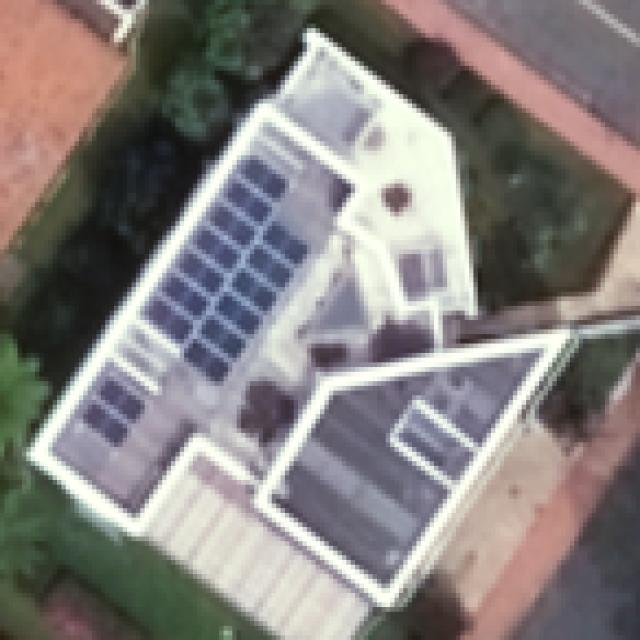Batiment: (32, 30, 475, 527), (255, 333, 576, 607), (142, 436, 370, 638)
